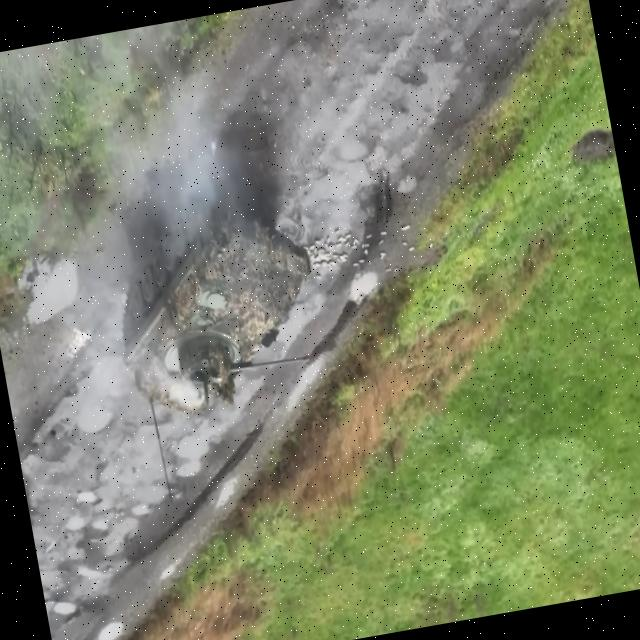AIFV: (95, 164, 337, 432)
